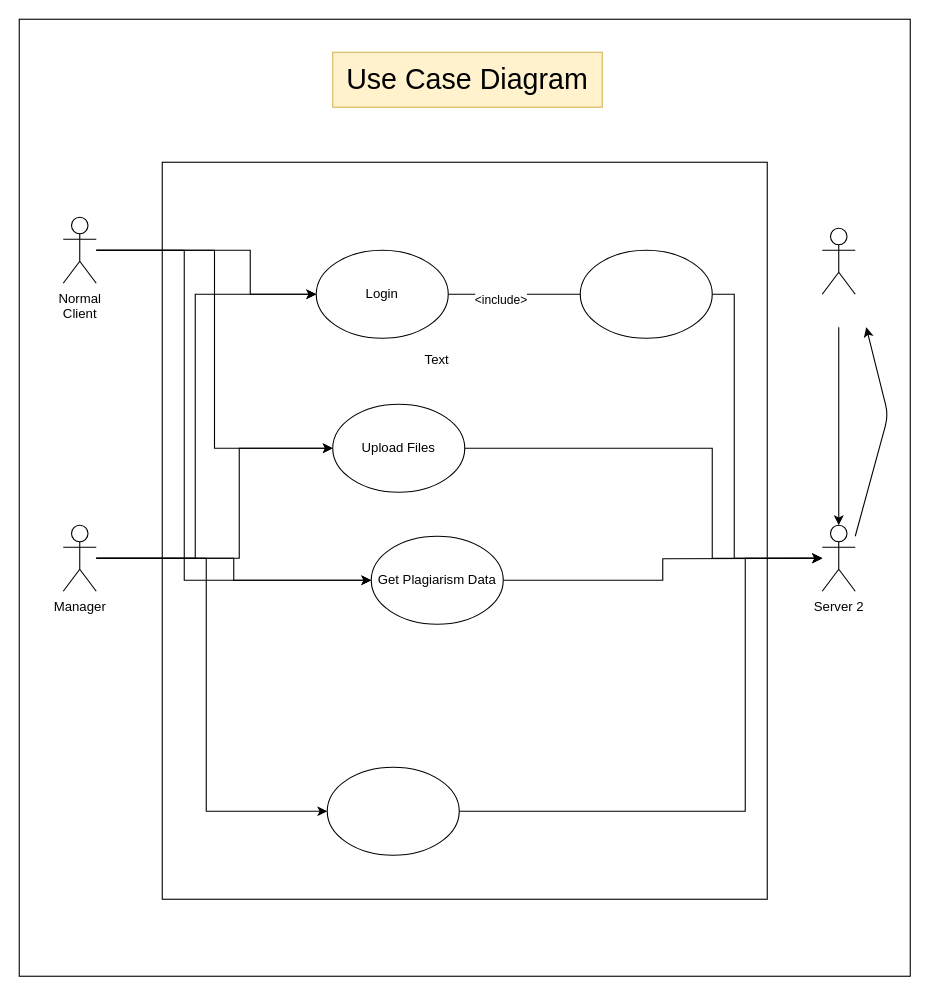
This 930x996 diagram has some shape labels left out. The shapes that lost their labels are listed below. From the top down, each one's box as (x1, y1, x2, y2) in pixels, then its label:
(821, 227, 855, 294): Server 3
(579, 249, 712, 338): User Details
(326, 766, 459, 855): Update Database
